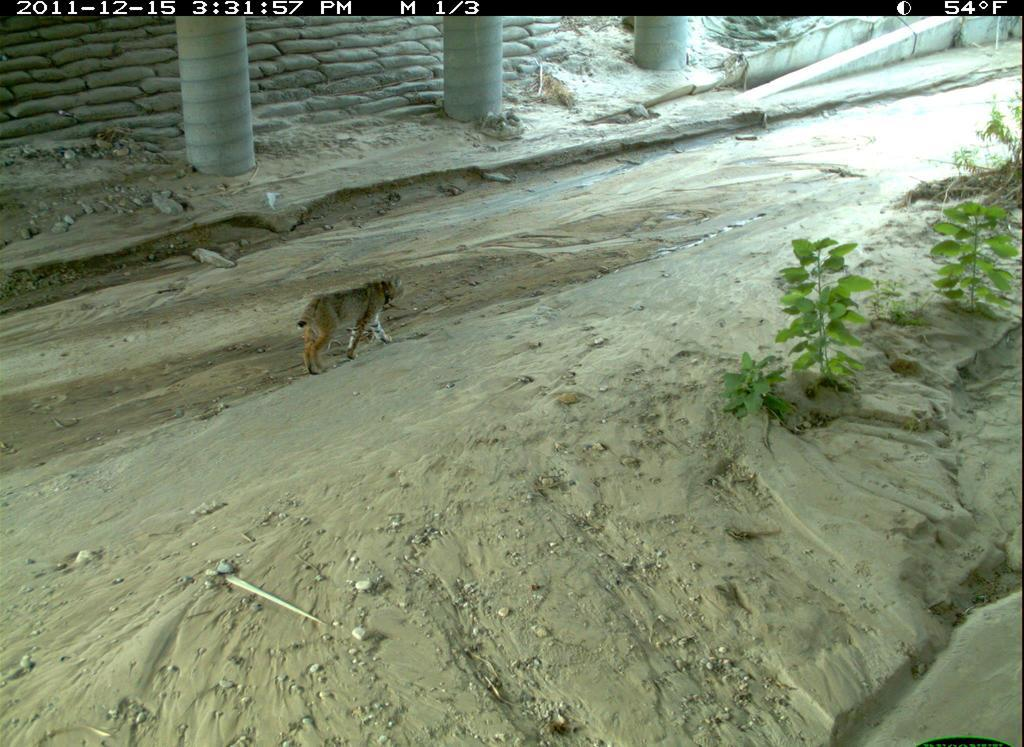bobcat: (281, 271, 424, 377)
